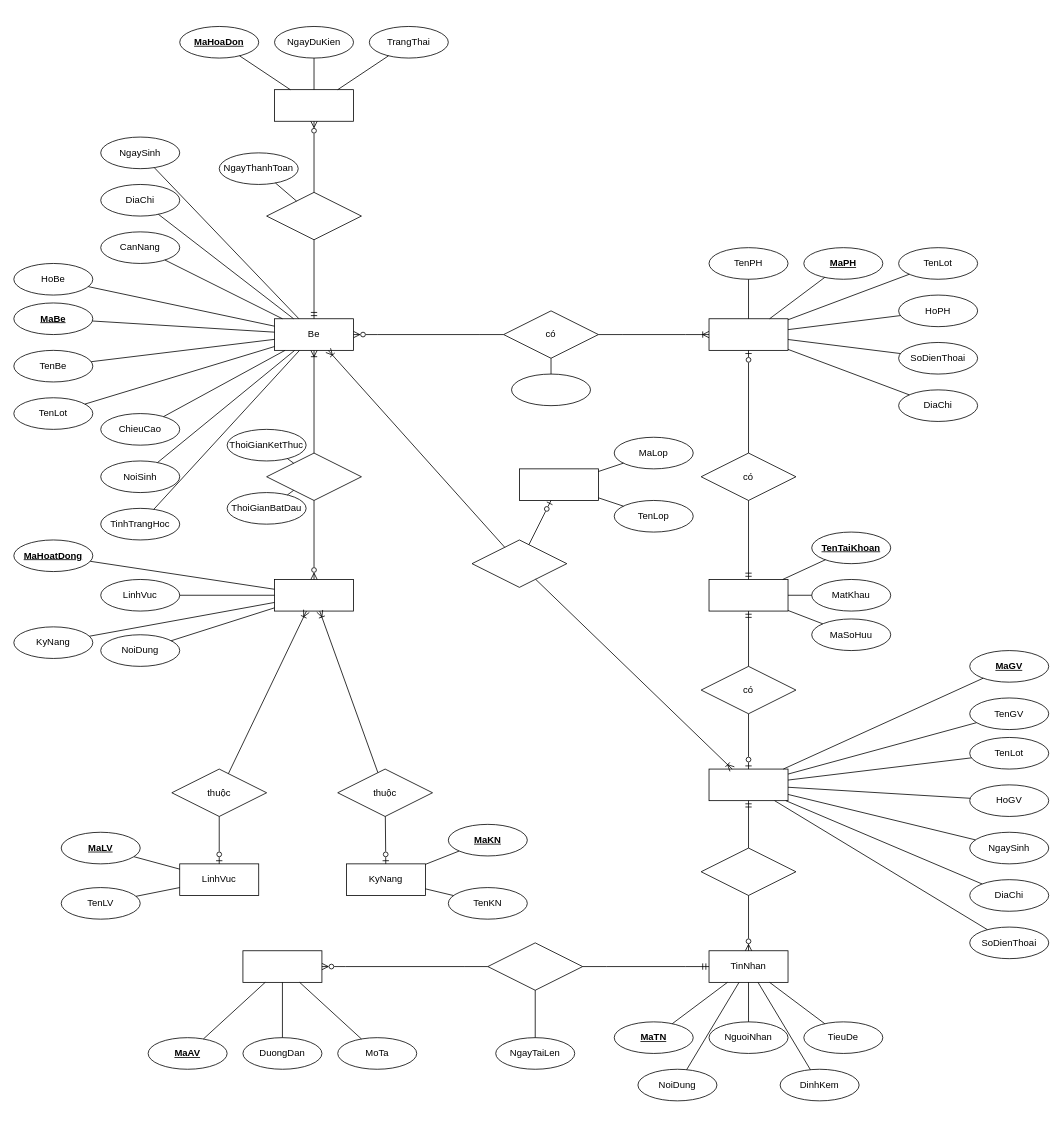
Some shapes in this 1063 by 1127 pixel diagram are drawn without their labels. The centre of each missing label's shape, as x and y in pixels:
GiaoVien: point 748,784
gửi: point 748,871
HoaDon: point 314,105
HoatDong: point 314,595
học/ dạy: point 519,563
Lop: point 558,484
PhuHuynh: point 748,334
QuanHe: point 551,389
TaiKhoan: point 748,595
TepDaPhuongTien: point 282,966
tham gia: point 313,476
thanh toán cho: point 313,216
tải lên: point 535,966
